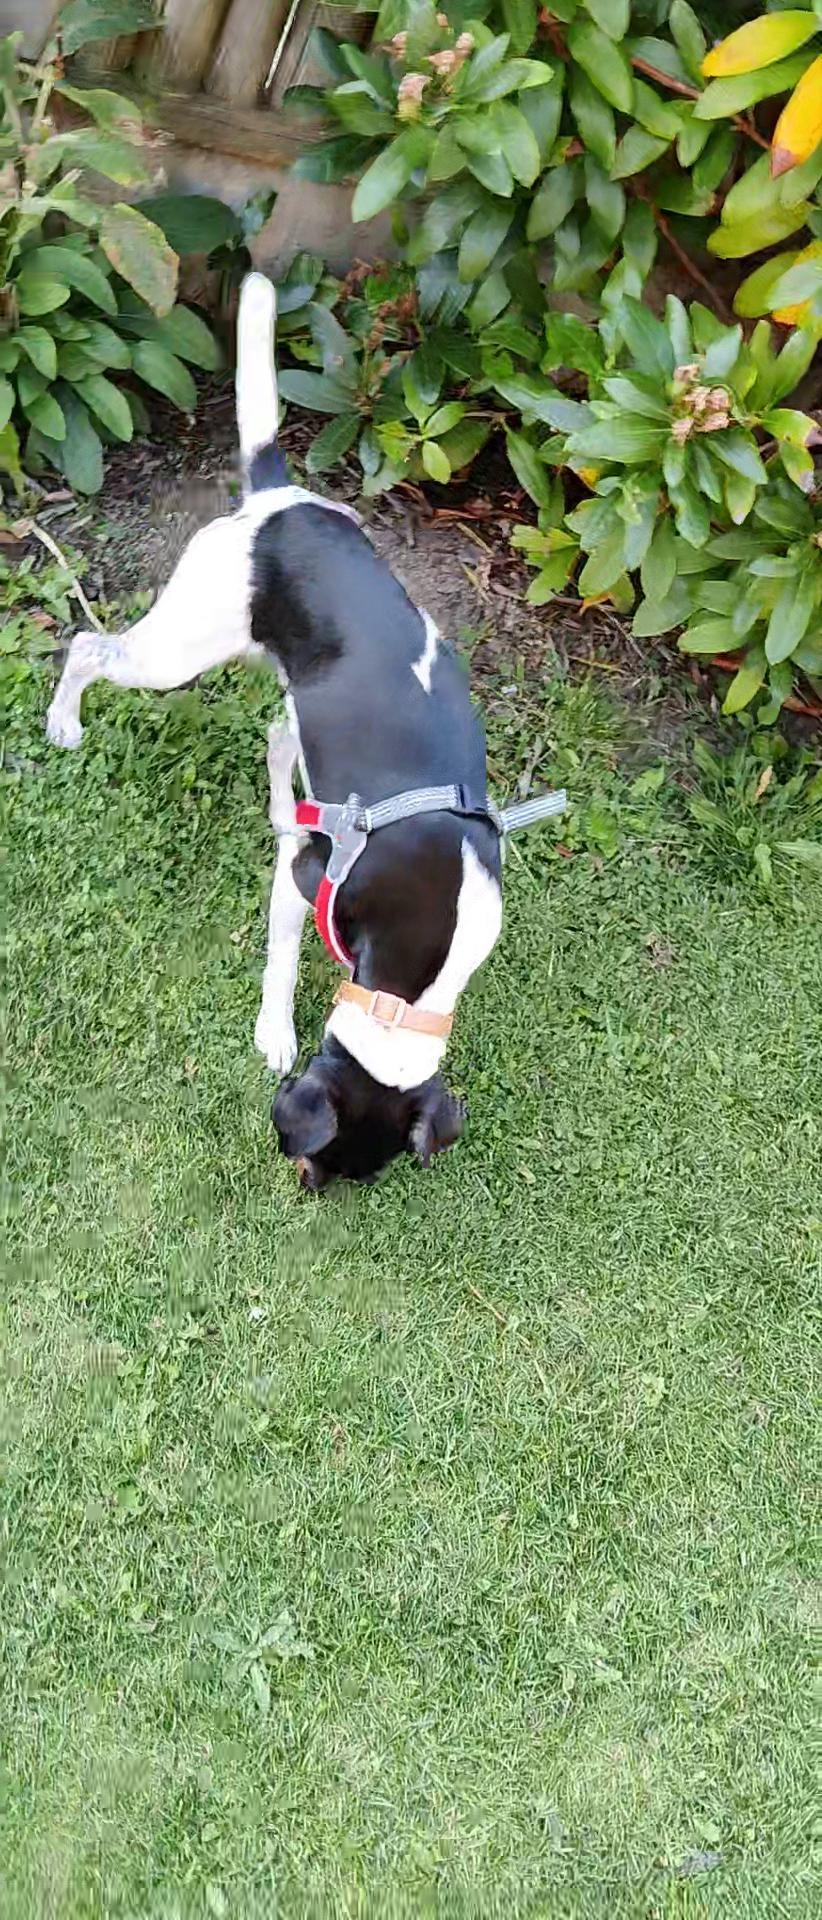Dog: (29, 242, 532, 1201)
